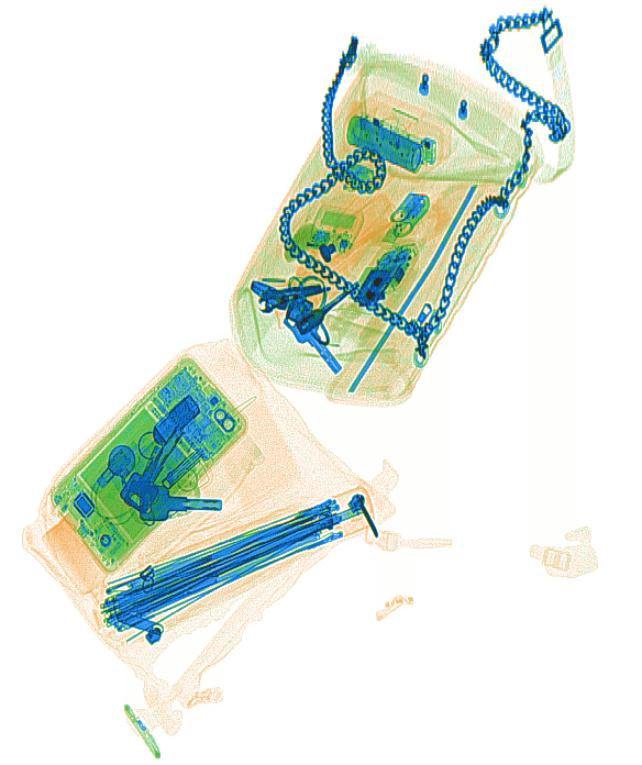USBFlashDisk: (379, 189, 431, 248), (151, 392, 201, 447)
battery: (343, 114, 422, 174)
